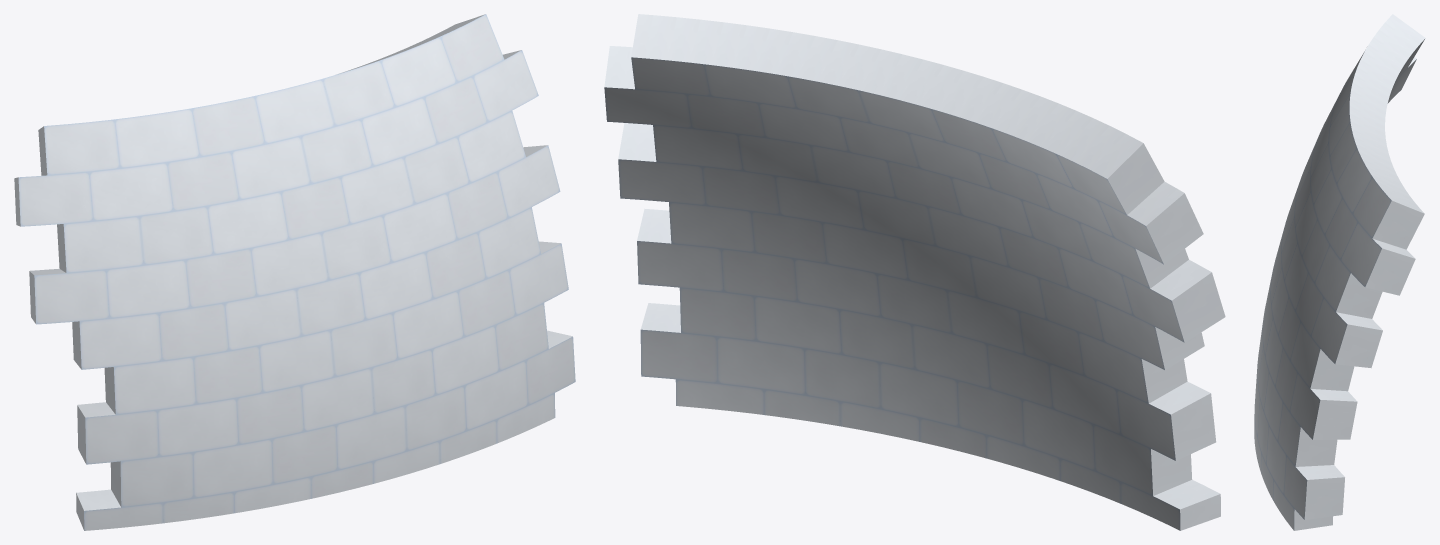
The model's file is SM_Igloo_WallChunks.glb.
3 views of the same model, side by side, from view 1: azimuth 30°, elevation 25°; view 2: azimuth 150°, elevation 25°; view 3: azimuth 270°, elevation 25° (orthographic). The views are drawn at different scales.
Parts seen in each view (by area): view 1: WallChunk_21, WallChunk_30, WallChunk_24, WallChunk_19, WallChunk_18, WallChunk_31, WallChunk_25, WallChunk_26, WallChunk_20, WallChunk_27, WallChunk_15, WallChunk_14 (+24 smaller); view 2: WallChunk_27, WallChunk_21, WallChunk_31, WallChunk_24, WallChunk_30, WallChunk_23, WallChunk_16, WallChunk_26, WallChunk_22, WallChunk_35, WallChunk_20, WallChunk_14 (+24 smaller); view 3: WallChunk_29, WallChunk_36, WallChunk_32, WallChunk_31, WallChunk_27, WallChunk_33, WallChunk_21, WallChunk_22, WallChunk_20, WallChunk_34, WallChunk_24, WallChunk_23 (+11 smaller).
Part boxes in pixels (x1,y1,x2,y2): WallChunk_21: (249, 78, 370, 213); WallChunk_30: (29, 187, 154, 309); WallChunk_24: (136, 97, 251, 209); WallChunk_19: (147, 203, 260, 318); WallChunk_18: (132, 351, 231, 477); WallChunk_31: (415, 22, 512, 166); WallChunk_25: (30, 302, 164, 402); WallChunk_26: (76, 457, 218, 530); WallChunk_20: (404, 138, 505, 248); WallChunk_27: (326, 34, 444, 144); WallChunk_15: (335, 138, 419, 257); WallChunk_14: (214, 436, 337, 515); WallChunk_27: (697, 20, 874, 136); WallChunk_21: (838, 48, 982, 196); WallChunk_31: (656, 16, 788, 162); WallChunk_24: (937, 70, 1070, 212); WallChunk_30: (1065, 202, 1221, 329); WallChunk_23: (686, 315, 804, 420); WallChunk_16: (780, 329, 889, 435); WallChunk_26: (1074, 437, 1220, 530); WallChunk_22: (670, 186, 790, 305); WallChunk_35: (1090, 139, 1203, 264); WallChunk_20: (696, 132, 820, 222); WallChunk_14: (959, 396, 1076, 485); WallChunk_29: (1284, 370, 1357, 464); WallChunk_36: (1344, 192, 1424, 295); WallChunk_32: (1315, 283, 1382, 371); WallChunk_31: (1324, 179, 1417, 295); WallChunk_27: (1322, 123, 1407, 215); WallChunk_33: (1290, 462, 1344, 530); WallChunk_21: (1304, 91, 1386, 201); WallChunk_22: (1284, 318, 1352, 416); WallChunk_20: (1293, 213, 1325, 318); WallChunk_34: (1353, 18, 1422, 81); WallChunk_24: (1312, 57, 1396, 155); WallChunk_23: (1266, 425, 1291, 526).
Size of the model in its own units: 7.18 by 4.8 by 2.3.
2 materials, 1 textured.
